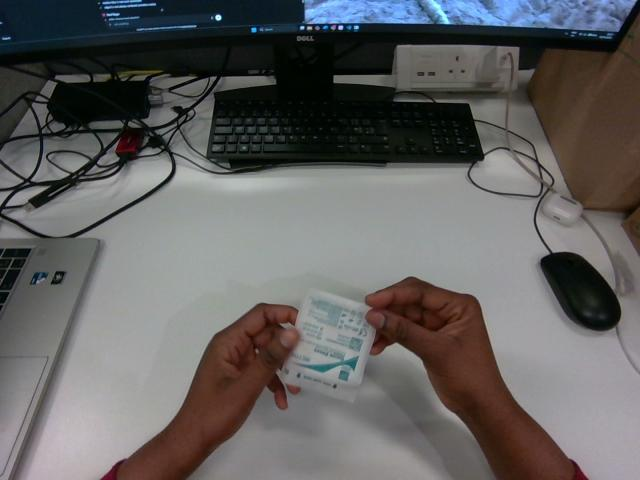gauze: (282, 289, 374, 401)
